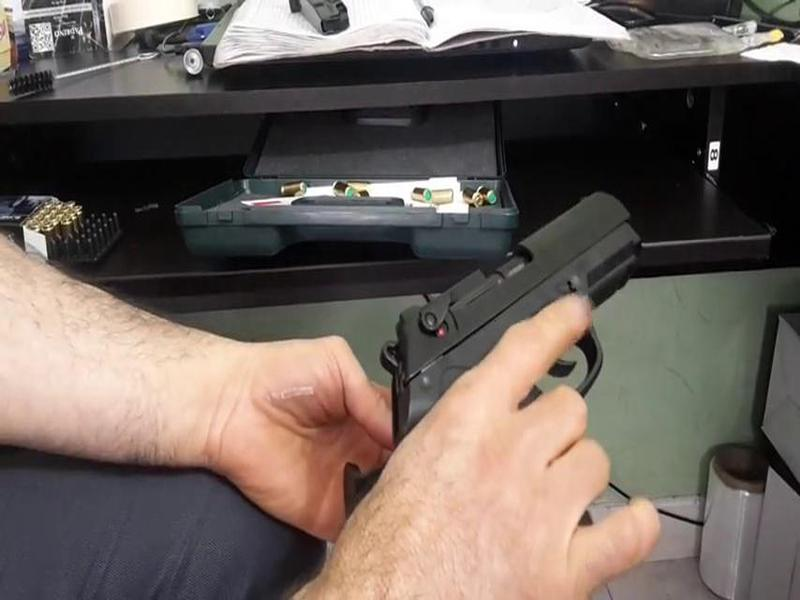Pistola: (365, 178, 639, 513)
